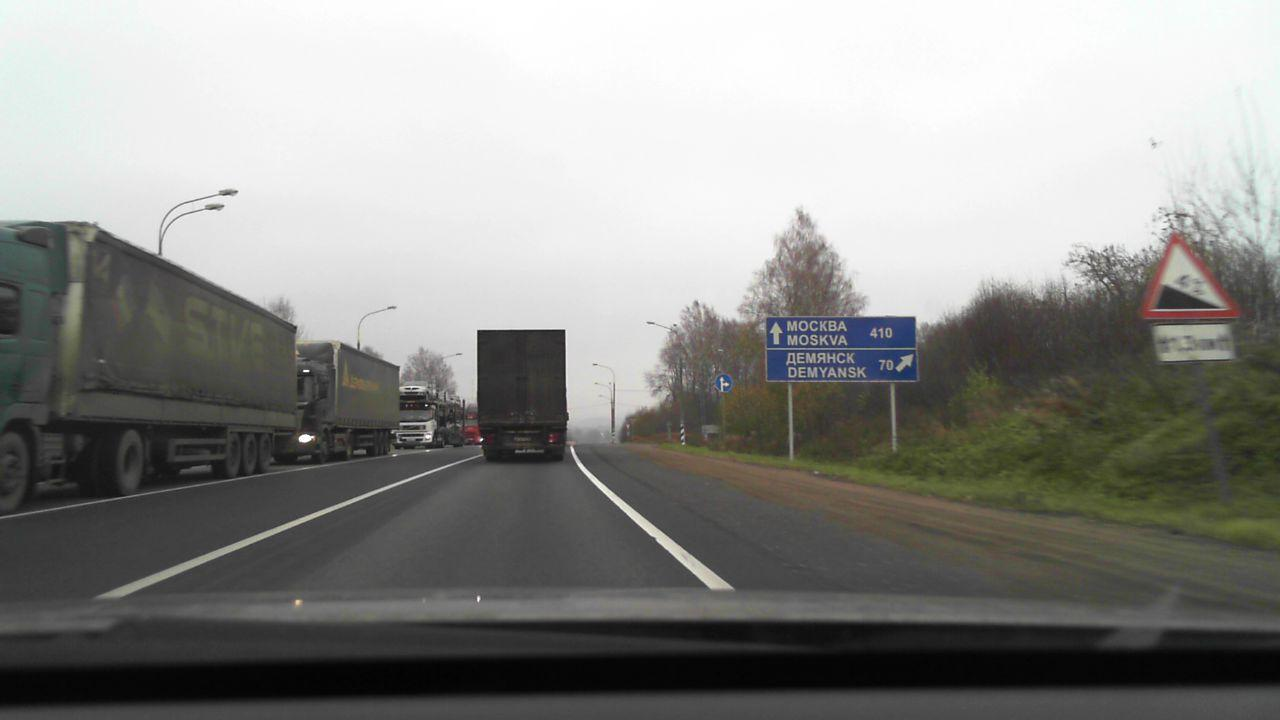1_13: (1138, 232, 1242, 319)
4_1_4: (715, 373, 733, 392)
6_10_1: (769, 318, 919, 381)
8_2_1: (1154, 321, 1237, 362)
